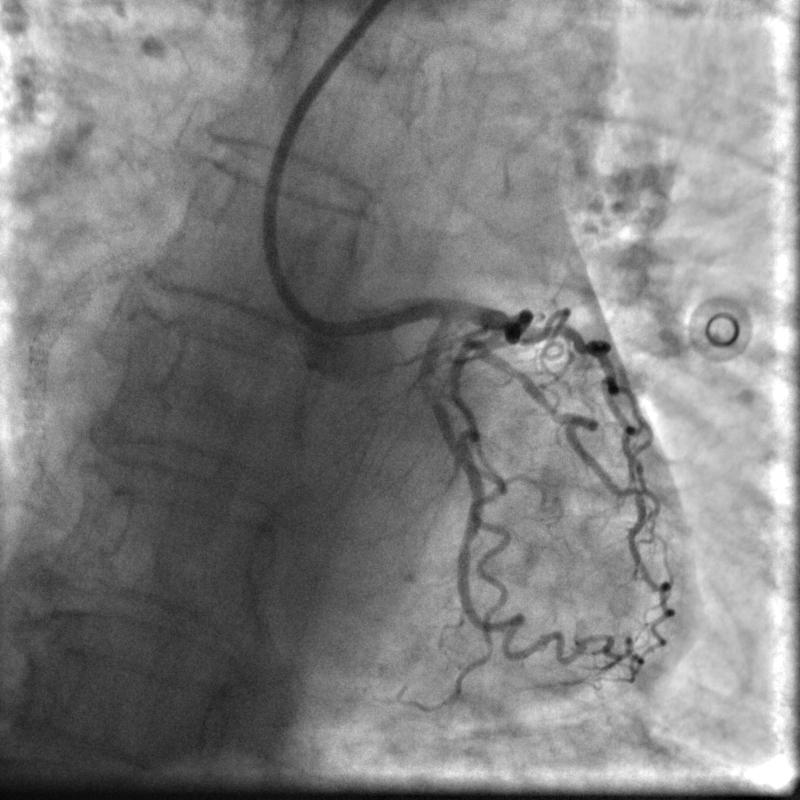Stenosis: (418, 368, 442, 399)
